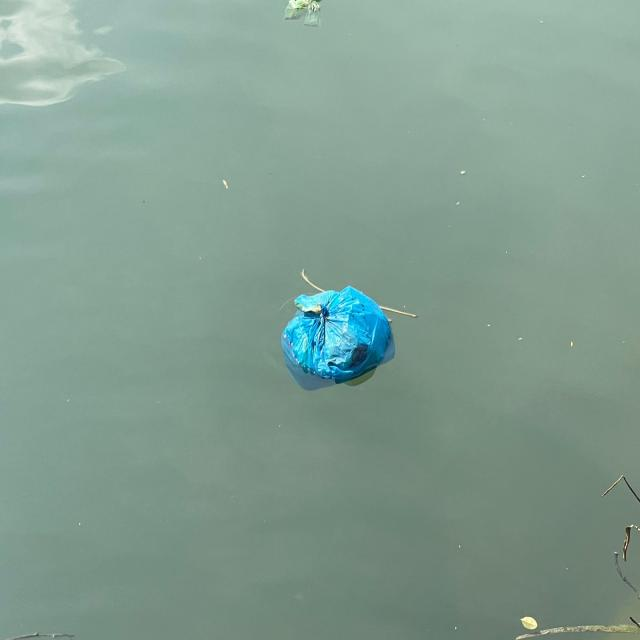Kantong Plastik: (277, 277, 405, 388)
